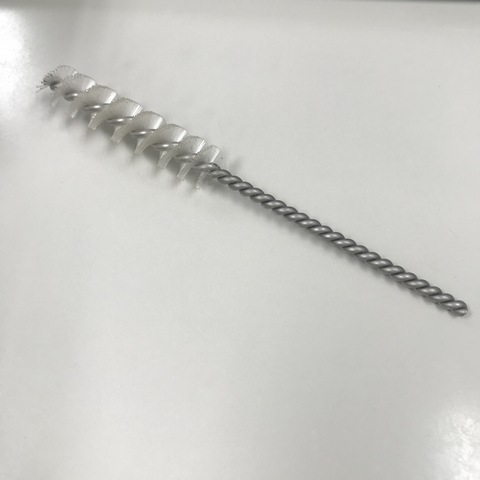Twist Brush-B: (29, 59, 469, 318)
